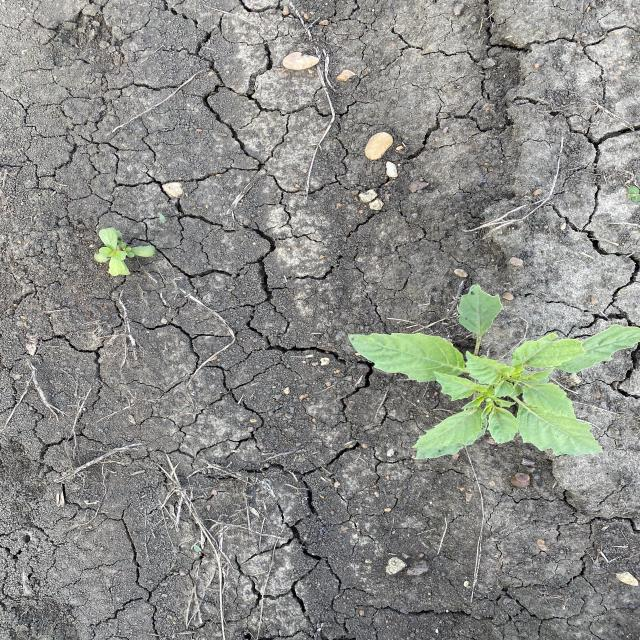CutleafGroundcherry: (348, 283, 638, 462)
Purslane: (90, 226, 156, 280)
